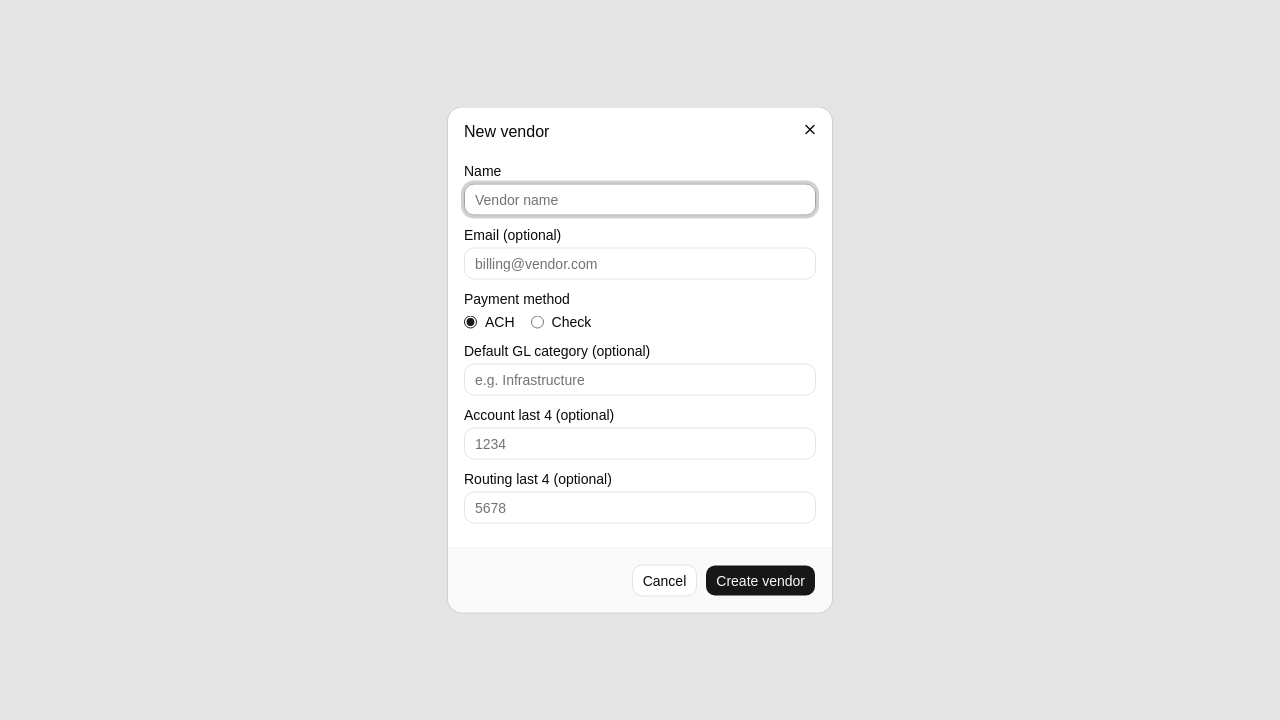
AddVendorDialog › disables the submit button while a duplicate name is entered
The width and height of the screenshot is (1280, 720).
In the field with placeholder "Vendor name": (640, 200) [464,184,816,216], type "Acme"
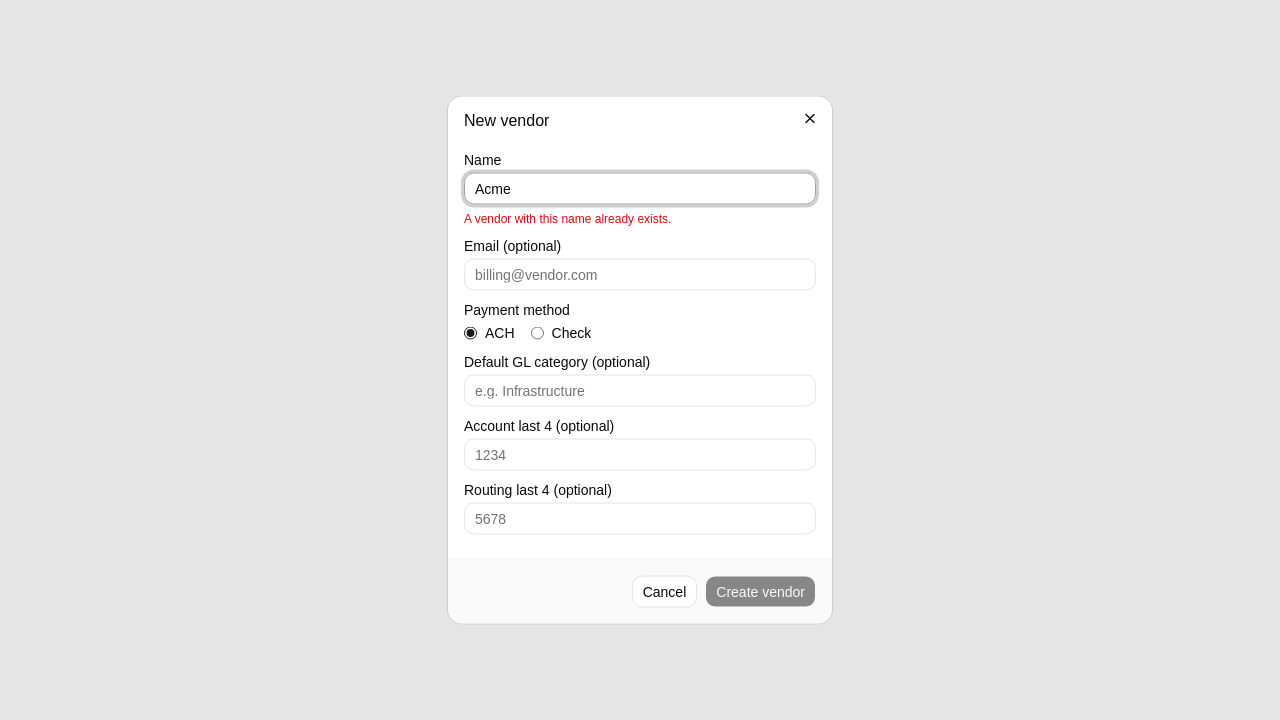
Now the button "Create vendor" is disabled, box [705,576,816,608]
